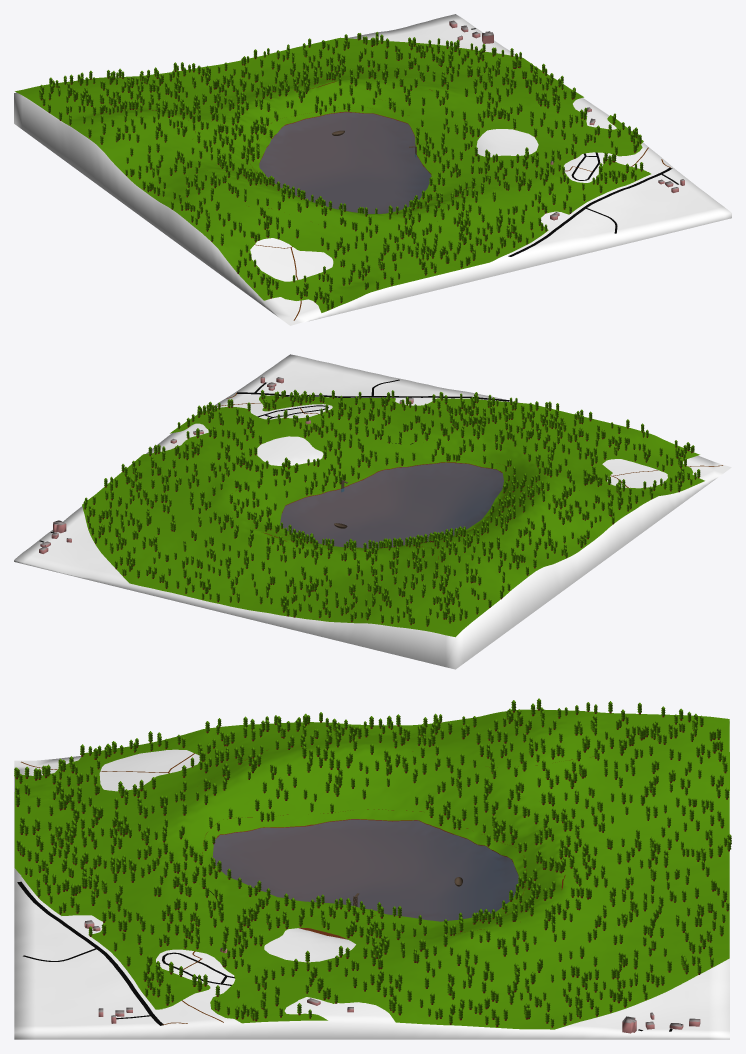
File: page6.glb
3 renders of one model, top to bottom at view 1: azimuth 30°, elevation 25°; view 2: azimuth 150°, elevation 25°; view 3: azimuth 270°, elevation 25°, orthographic. The views are drawn at different scales.
Parts seen in each view (by area): view 1: map_3.osm_forest, Terrain, map_3.osm_water, map_3.osm_buildings, map_3.osm_roads_tertiary; view 2: map_3.osm_forest, Terrain, map_3.osm_water, map_3.osm_buildings; view 3: map_3.osm_forest, Terrain, map_3.osm_water, map_3.osm_buildings, map_3.osm_roads_tertiary, map_3.osm_roads_service.
Boxes of the visible parts, x1,y1,x2,y2 form: map_3.osm_forest: [15, 37, 650, 312]; Terrain: [14, 14, 731, 325]; map_3.osm_water: [259, 112, 431, 213]; map_3.osm_buildings: [449, 20, 684, 220]; map_3.osm_roads_tertiary: [508, 167, 672, 256]; map_3.osm_forest: [82, 395, 704, 637]; Terrain: [14, 354, 731, 669]; map_3.osm_water: [280, 463, 503, 548]; map_3.osm_buildings: [39, 376, 413, 553]; map_3.osm_forest: [14, 709, 729, 1029]; Terrain: [14, 721, 729, 1039]; map_3.osm_water: [213, 820, 518, 921]; map_3.osm_buildings: [84, 920, 700, 1033]; map_3.osm_roads_tertiary: [17, 881, 163, 1025]; map_3.osm_roads_service: [23, 890, 672, 1031].
Bounding box in the file's own units: 16.79 × 2.72 × 18.2.
